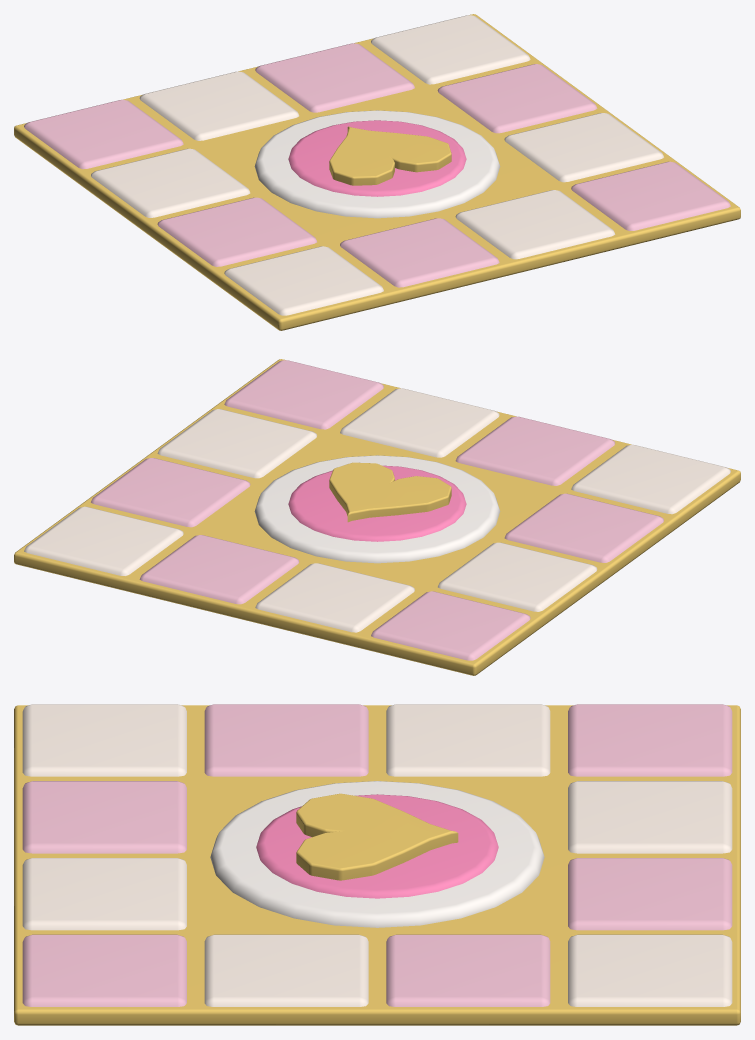
File: paving_tile.glb
3 views of the same model, one above another, from view 1: azimuth 30°, elevation 25°; view 2: azimuth 150°, elevation 25°; view 3: azimuth 270°, elevation 25° (orthographic). The views are drawn at different scales.
Visible parts, largest first — view 1: paving_tile; view 2: paving_tile; view 3: paving_tile.
Part boxes in pixels (box(x1,y1,x2,y2)): paving_tile: box(14, 14, 740, 330); paving_tile: box(14, 359, 740, 675); paving_tile: box(14, 704, 740, 1025).
Size of the model in its own units: 2 by 0.135 by 2.
